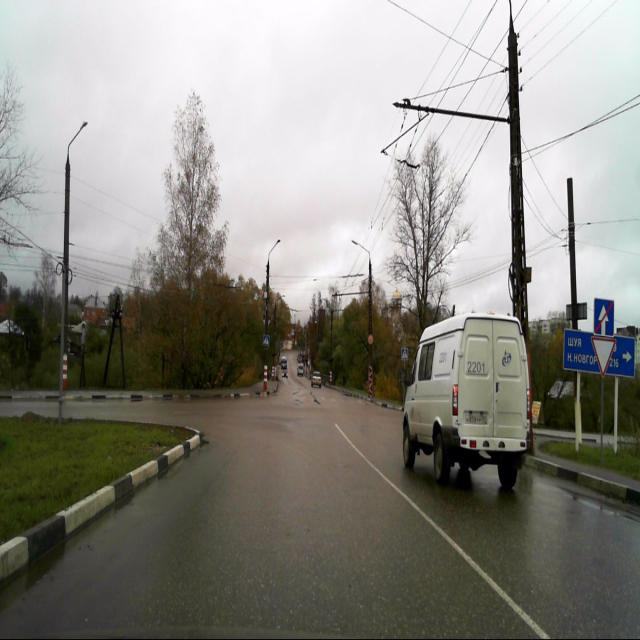road sign: (589, 337, 614, 380), (592, 294, 614, 336)
